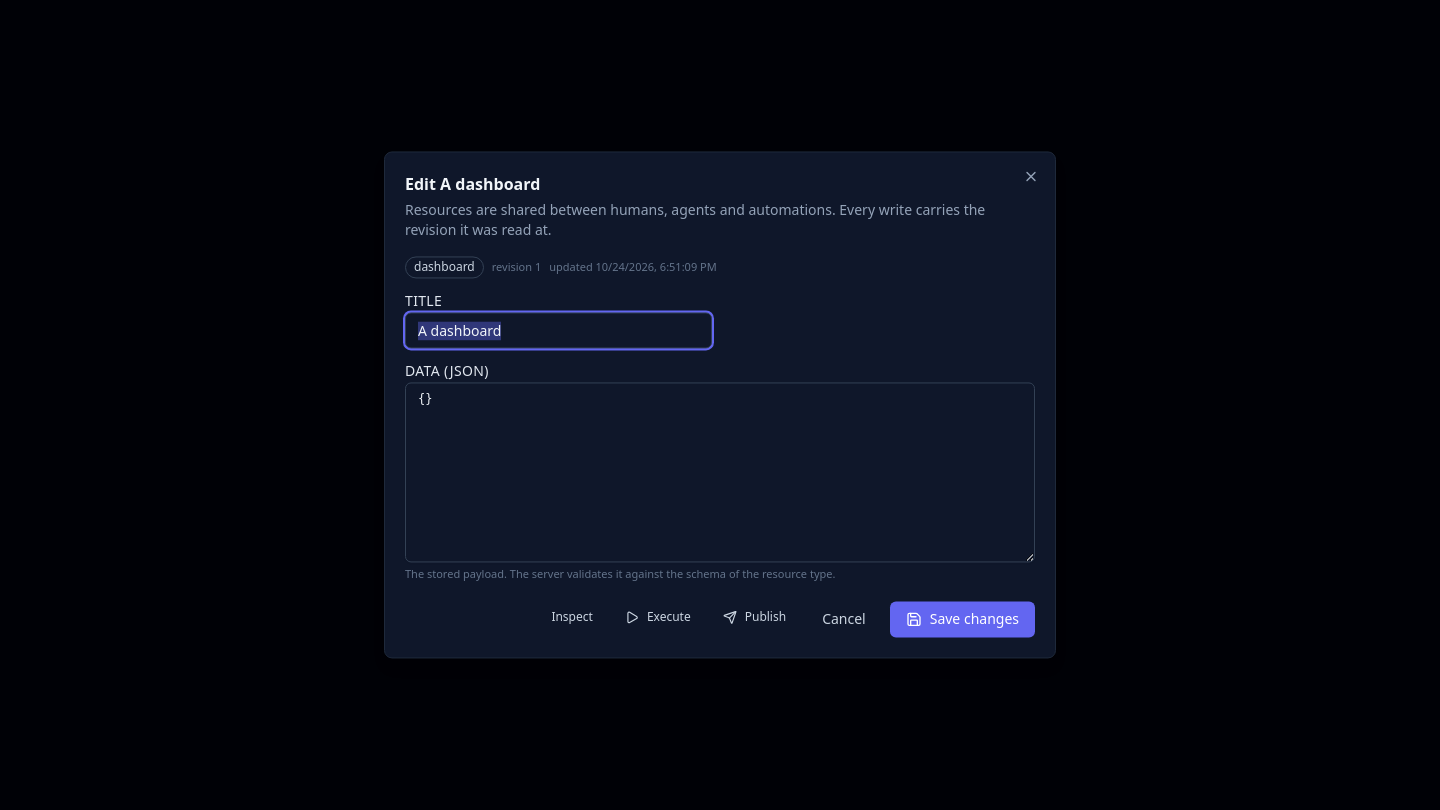
Test: a refusal › is not swallowed into the success the response did not claim
The image size is (1440, 810).
Click the button "Publish" at (754, 618), box top-left (711, 602), bottom-right (798, 634)
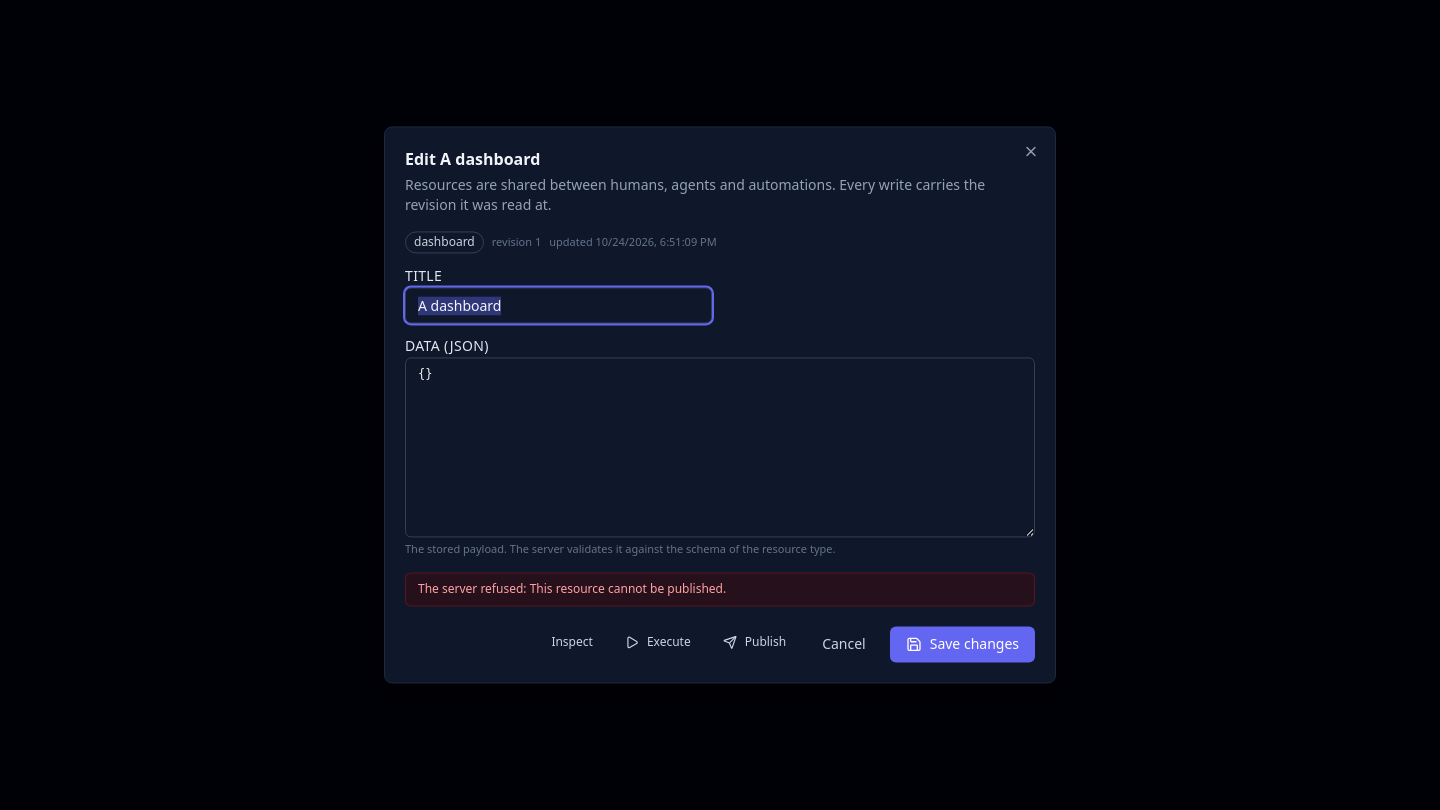
expect the text "The server refused: This resource cannot be published." is shown: met, box top-left (405, 573), bottom-right (1035, 607)
